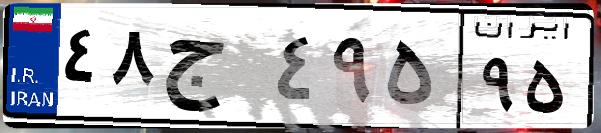4: (270, 28, 330, 110), (57, 26, 110, 100)
5: (385, 28, 445, 110), (525, 38, 570, 115)
8: (110, 28, 158, 98)
9: (330, 28, 385, 110), (475, 38, 525, 113)
ج: (158, 20, 270, 120)
